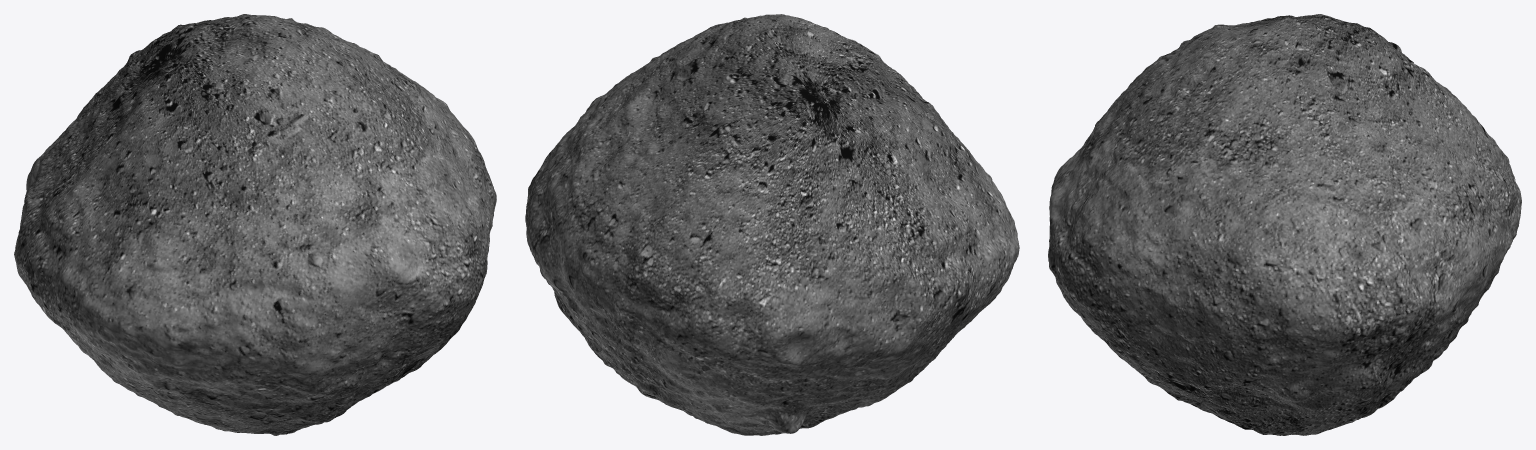
The model's file is bennu-transformed.glb.
The picture shows the model from 3 angles, left to right: view 1: azimuth 30°, elevation 25°; view 2: azimuth 150°, elevation 25°; view 3: azimuth 270°, elevation 25°; orthographic projection.
Parts seen in each view (by area): view 1: Bennu_v20_200k_2; view 2: Bennu_v20_200k_2; view 3: Bennu_v20_200k_2.
Boxes of the visible parts, x1=… form: Bennu_v20_200k_2: x1=14, y1=14, x2=496, y2=435; Bennu_v20_200k_2: x1=525, y1=14, x2=1019, y2=435; Bennu_v20_200k_2: x1=1048, y1=14, x2=1521, y2=435.
Size of the model in its own units: 0.5629 by 0.4978 by 0.5355.
1 material, 1 textured.
